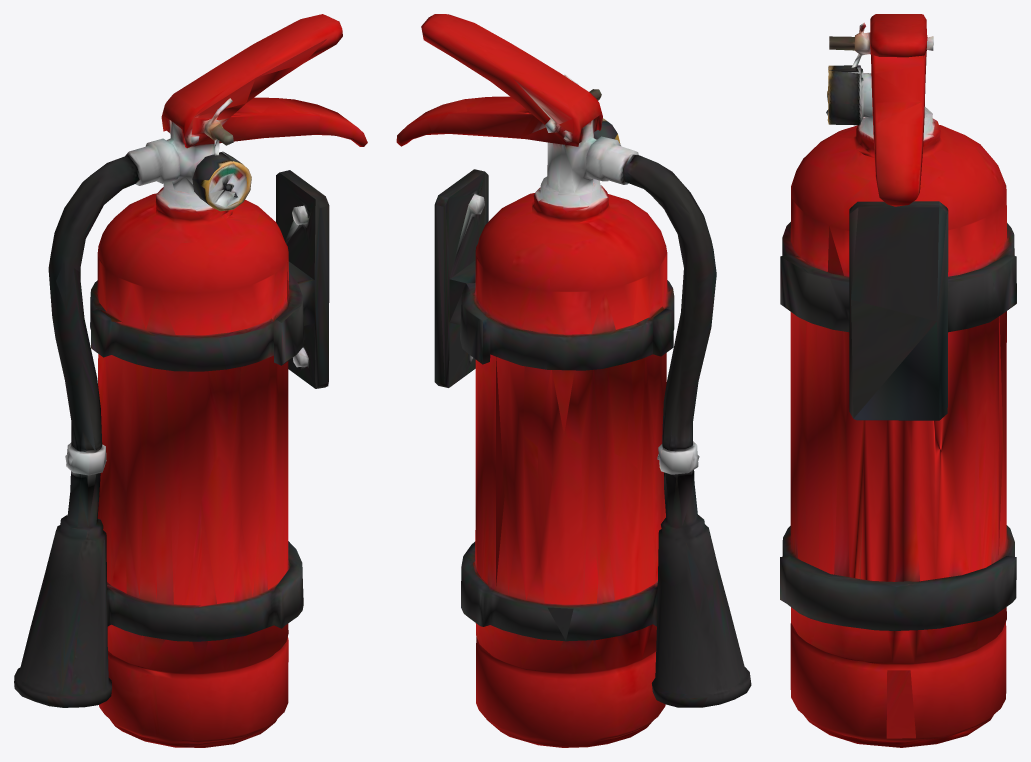
File: fire_extinguisher_a.glb
3 renders of one model, left to right at view 1: azimuth 30°, elevation 25°; view 2: azimuth 150°, elevation 25°; view 3: azimuth 270°, elevation 25°, orthographic. The views are drawn at different scales.
Visible parts, largest first — view 1: fire_extinguisher_a; view 2: fire_extinguisher_a; view 3: fire_extinguisher_a.
Boxes of the visible parts, x1=… form: fire_extinguisher_a: x1=14, y1=14, x2=367, y2=747; fire_extinguisher_a: x1=396, y1=14, x2=751, y2=747; fire_extinguisher_a: x1=780, y1=14, x2=1016, y2=747.
Size of what is drawn, in the model's own units: 0.2956 by 0.5498 by 0.1587.
1 material, 1 textured.
